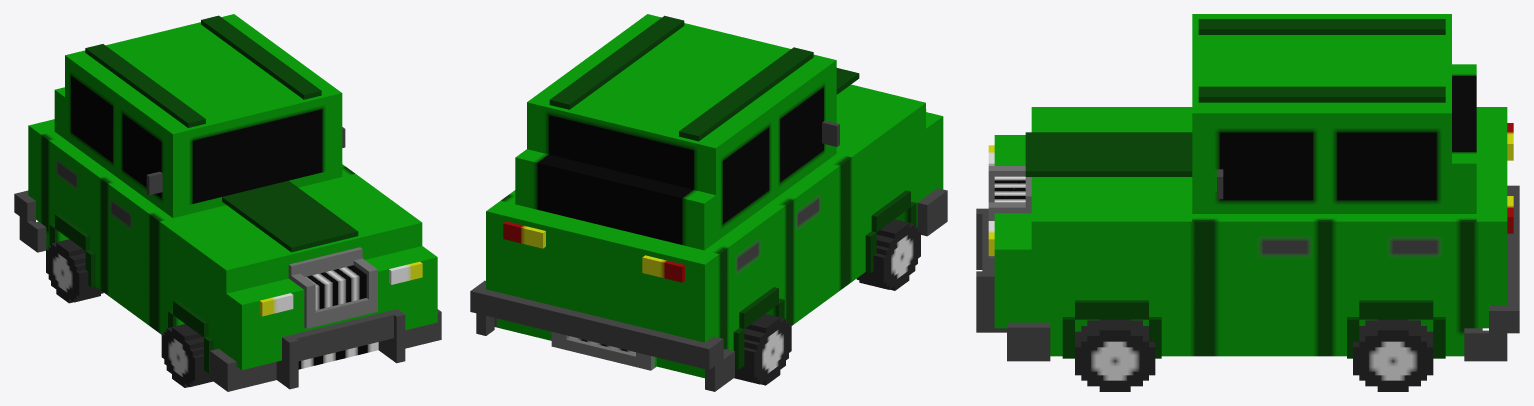
File: car_detail_1.fbx
3 renders of one model, left to right at view 1: azimuth 30°, elevation 25°; view 2: azimuth 150°, elevation 25°; view 3: azimuth 270°, elevation 25°, orthographic. The views are drawn at different scales.
Visible parts, largest first — view 1: body, back_left_wheel, back_right_wheel; view 2: body, back_right_wheel, back_left_wheel; view 3: body, front_left_wheel, front_right_wheel.
Part boxes in pixels (x1,y1,x2,y2): body: (14,14,441,391); back_left_wheel: (46,239,103,303); back_right_wheel: (161,324,212,387); body: (470,14,947,391); back_right_wheel: (856,219,920,290); back_left_wheel: (734,314,791,385); body: (976,14,1519,361); front_left_wheel: (1353,319,1433,391); front_right_wheel: (1075,319,1155,391).
Size of the model in its own units: 50 by 48 by 88.
Materials: 1 (1 with a texture image).
